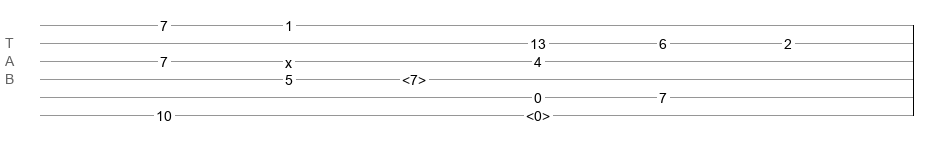0: (534, 90, 542, 100)
1: (285, 18, 293, 28)
10: (156, 108, 172, 118)
13: (530, 36, 546, 46)
2: (784, 36, 792, 46)
4: (534, 54, 542, 64)
5: (285, 72, 293, 82)
6: (659, 36, 667, 46)
7: (160, 54, 168, 64), (160, 18, 168, 28), (659, 90, 667, 100)
harmonic: (402, 72, 426, 82), (526, 108, 550, 118)
x: (285, 55, 292, 63)
